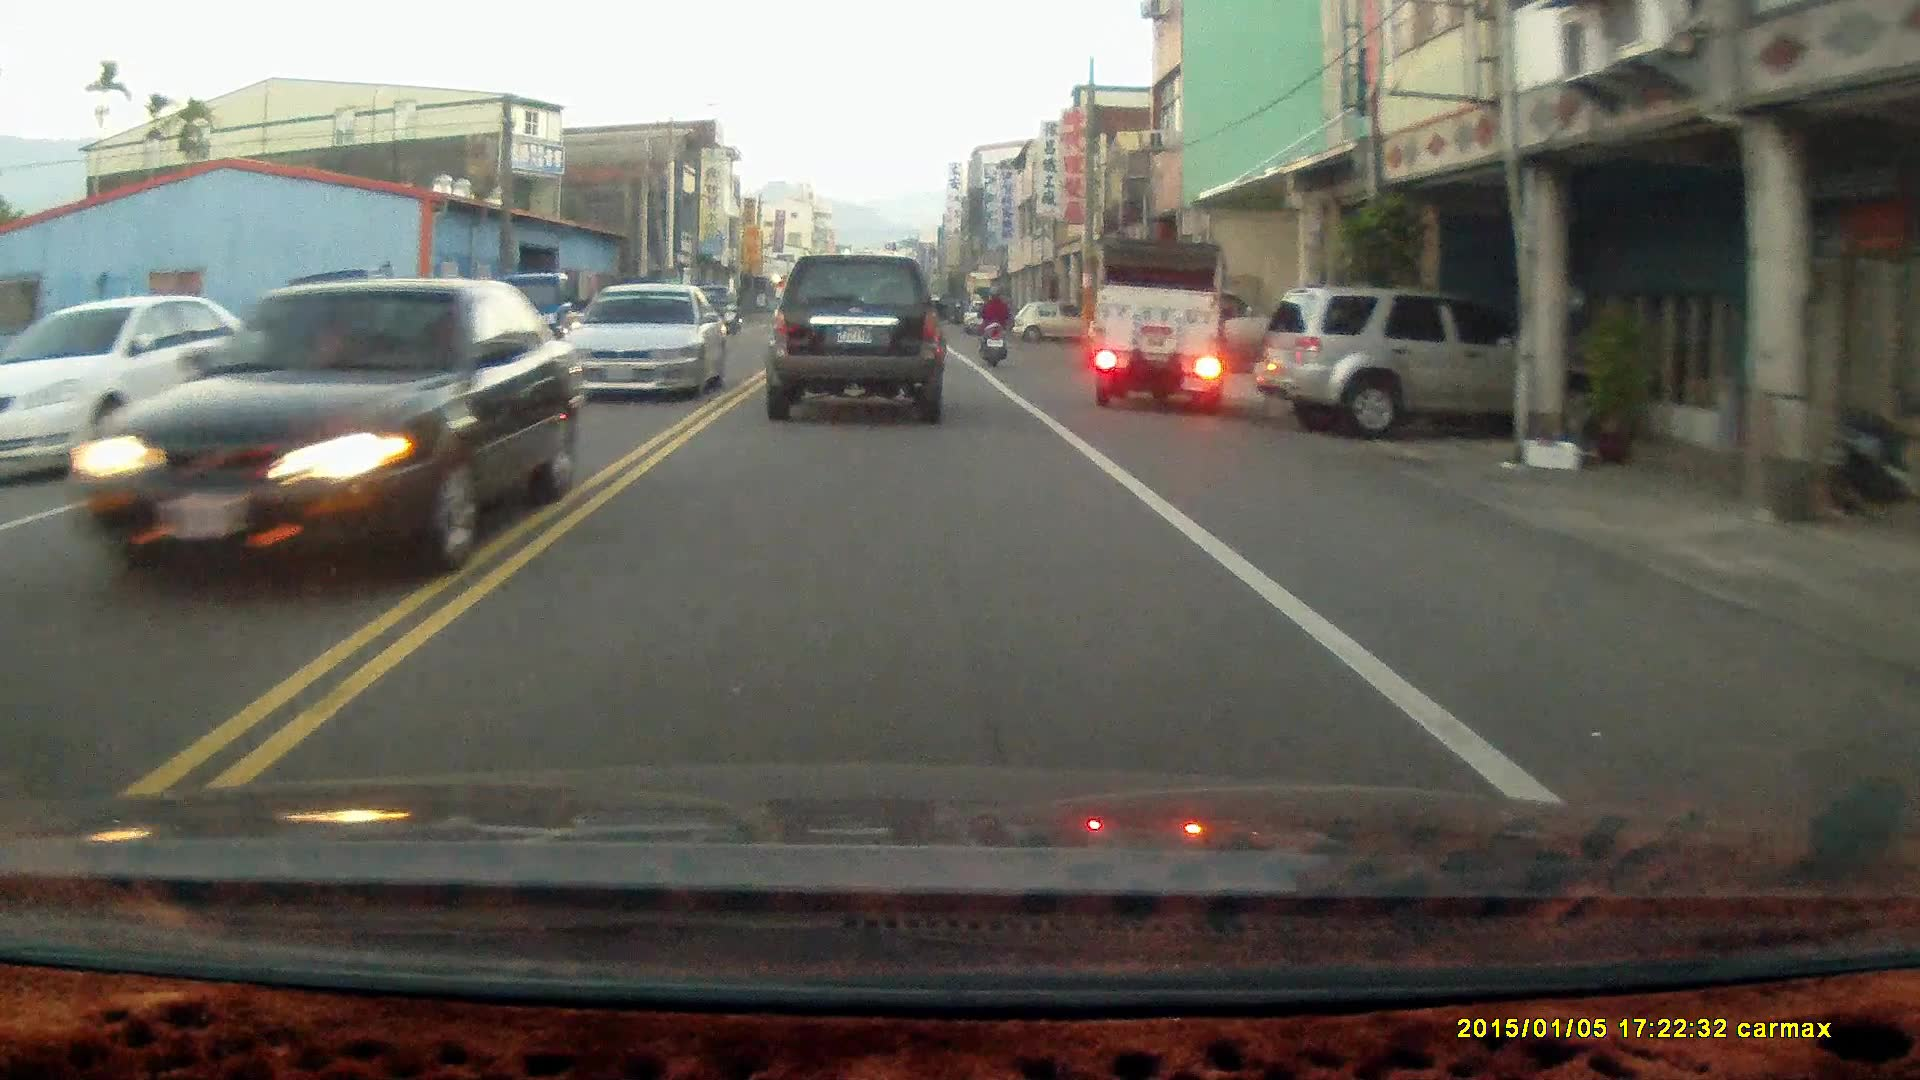rider: (975, 281, 1012, 367), (719, 286, 745, 336)
vehicle: (81, 275, 577, 591), (1, 293, 282, 485), (1259, 279, 1533, 436), (766, 255, 948, 425), (1091, 234, 1228, 405), (565, 280, 727, 400), (1014, 293, 1082, 343)
